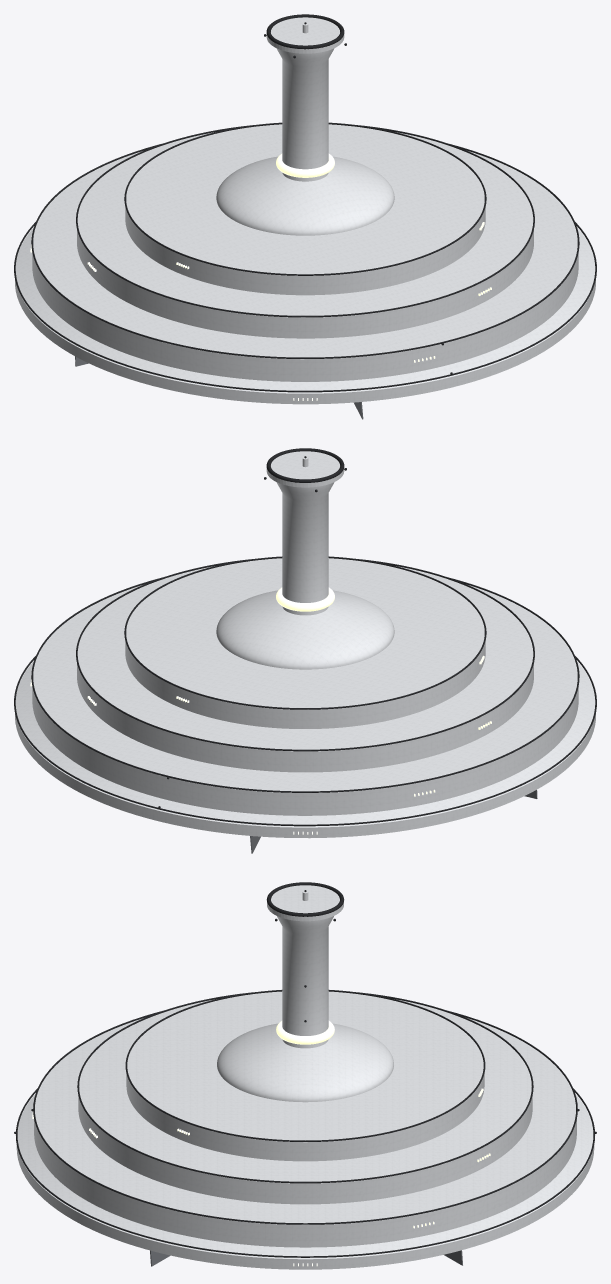
File: illuminus_disk.glb
3 renders of one model, top to bottom at view 1: azimuth 30°, elevation 25°; view 2: azimuth 150°, elevation 25°; view 3: azimuth 270°, elevation 25°, orthographic.
Parts seen in each view (by area): view 1: IlluminusDisk_Hull; view 2: IlluminusDisk_Hull; view 3: IlluminusDisk_Hull.
Part boxes in pixels (x1=…): IlluminusDisk_Hull: x1=14, y1=14, x2=596, y2=404; IlluminusDisk_Hull: x1=14, y1=448, x2=596, y2=838; IlluminusDisk_Hull: x1=14, y1=882, x2=596, y2=1269.
Size of the model in its own units: 603 by 327 by 606.
Materials: 11 (2 with a texture image).
